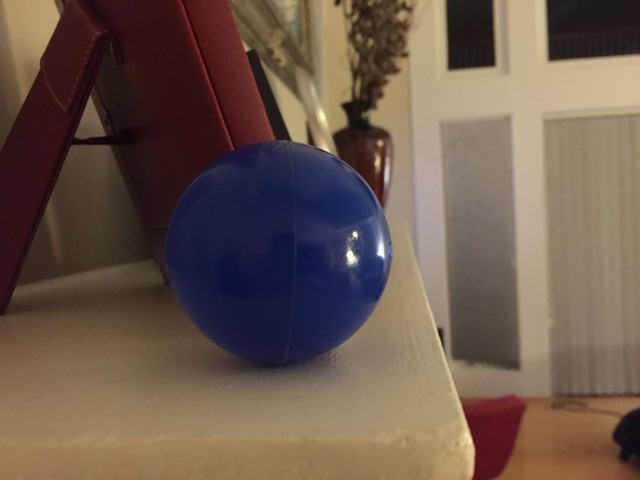Ball: (169, 139, 392, 364)
